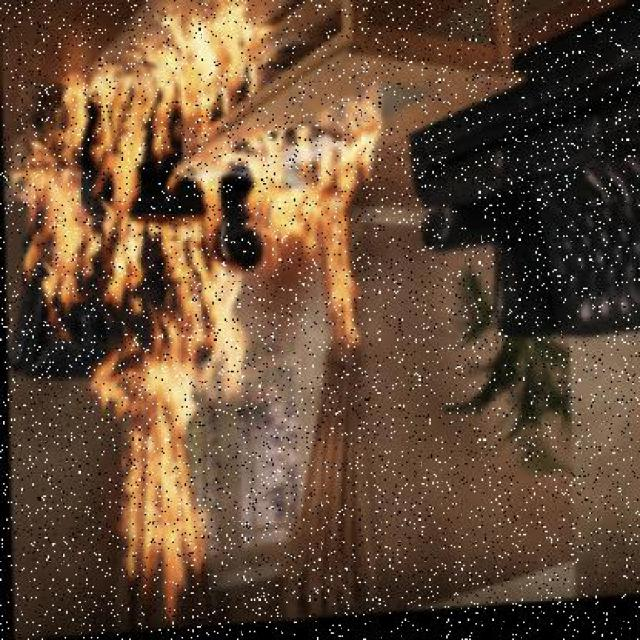fire: (19, 70, 231, 619)
